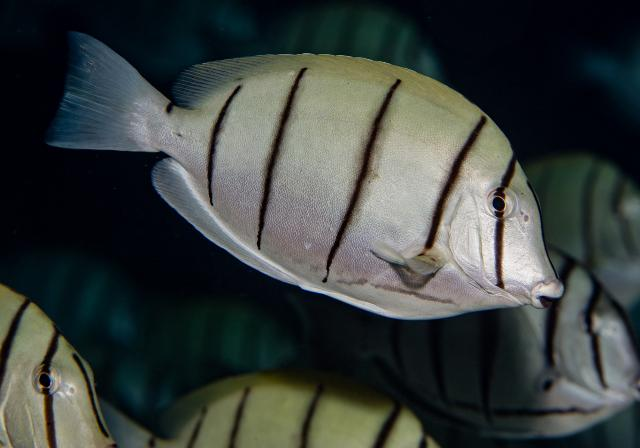Mulut: (489, 244, 596, 338)
Sirip Anal: (135, 141, 305, 297)
Sirip Dada: (351, 224, 463, 302)
Sirip Ekor: (26, 12, 170, 164)
Sirip Punggung: (164, 42, 486, 138)
